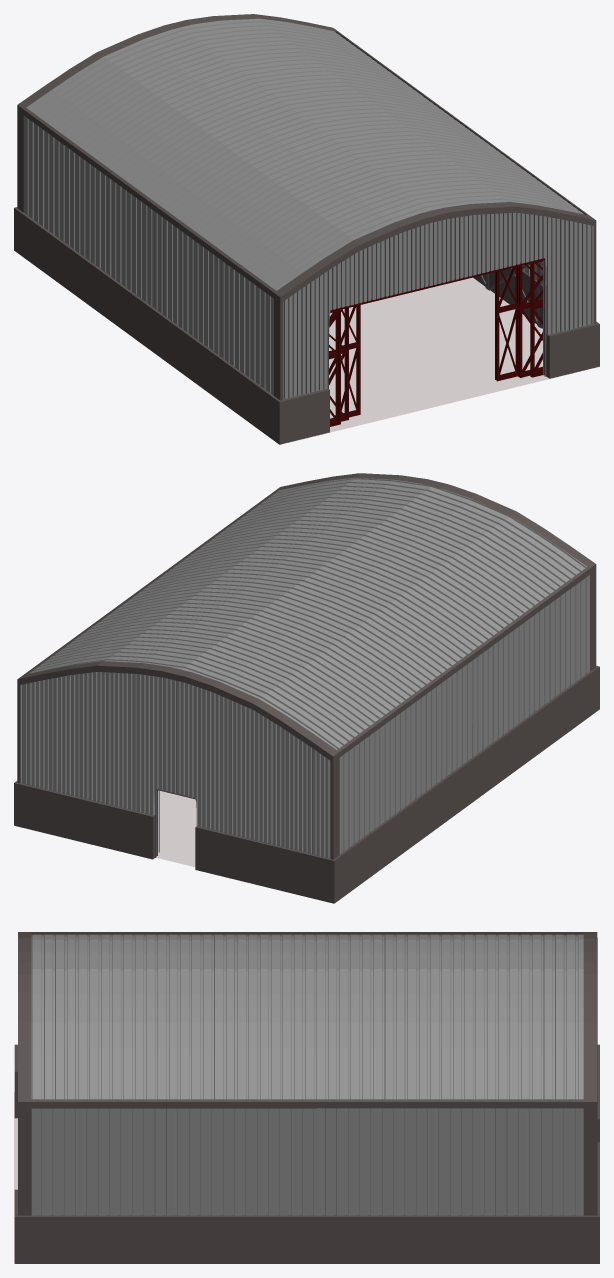
The model's file is hangar.dae.
The picture shows the model from 3 angles, top to bottom: view 1: azimuth 30°, elevation 25°; view 2: azimuth 150°, elevation 25°; view 3: azimuth 270°, elevation 25°; orthographic projection. The views are drawn at different scales.
Parts seen in each view (by area): view 1: Plane_020, Plane_023, Plane_021, Plane, Cube_001, Plane_026, Plane_014, Plane_025, Plane_015, Plane_012, Plane_024, Plane_022 (+2 smaller); view 2: Plane_020, Plane_021, Cube_001, Plane_023, Plane_026, Plane; view 3: Plane_020, Plane_023, Cube_001, Plane_026.
Boxes of the visible parts, box(x1,y1,x2,y2) form: Plane_020: box(26, 18, 583, 290); Plane_023: box(23, 32, 584, 395); Plane_021: box(283, 212, 593, 398); Plane: box(282, 277, 599, 444); Cube_001: box(14, 207, 599, 444); Plane_026: box(17, 14, 596, 400); Plane_014: box(495, 266, 517, 381); Plane_025: box(335, 305, 360, 417); Plane_015: box(518, 264, 542, 377); Plane_012: box(530, 260, 542, 377); Plane_024: box(329, 308, 348, 421); Plane_022: box(329, 310, 340, 426); Plane_020: box(29, 477, 586, 749); Plane_021: box(20, 672, 330, 858); Cube_001: box(14, 666, 599, 903); Plane_023: box(32, 493, 589, 854); Plane_026: box(17, 473, 596, 859); Plane: box(156, 791, 196, 866); Plane_020: box(31, 934, 583, 1099); Plane_023: box(31, 934, 583, 1215); Cube_001: box(14, 1044, 599, 1263); Plane_026: box(18, 932, 597, 1215).
Bounding box in the file's own units: 13.64 × 19.62 × 7.74.
